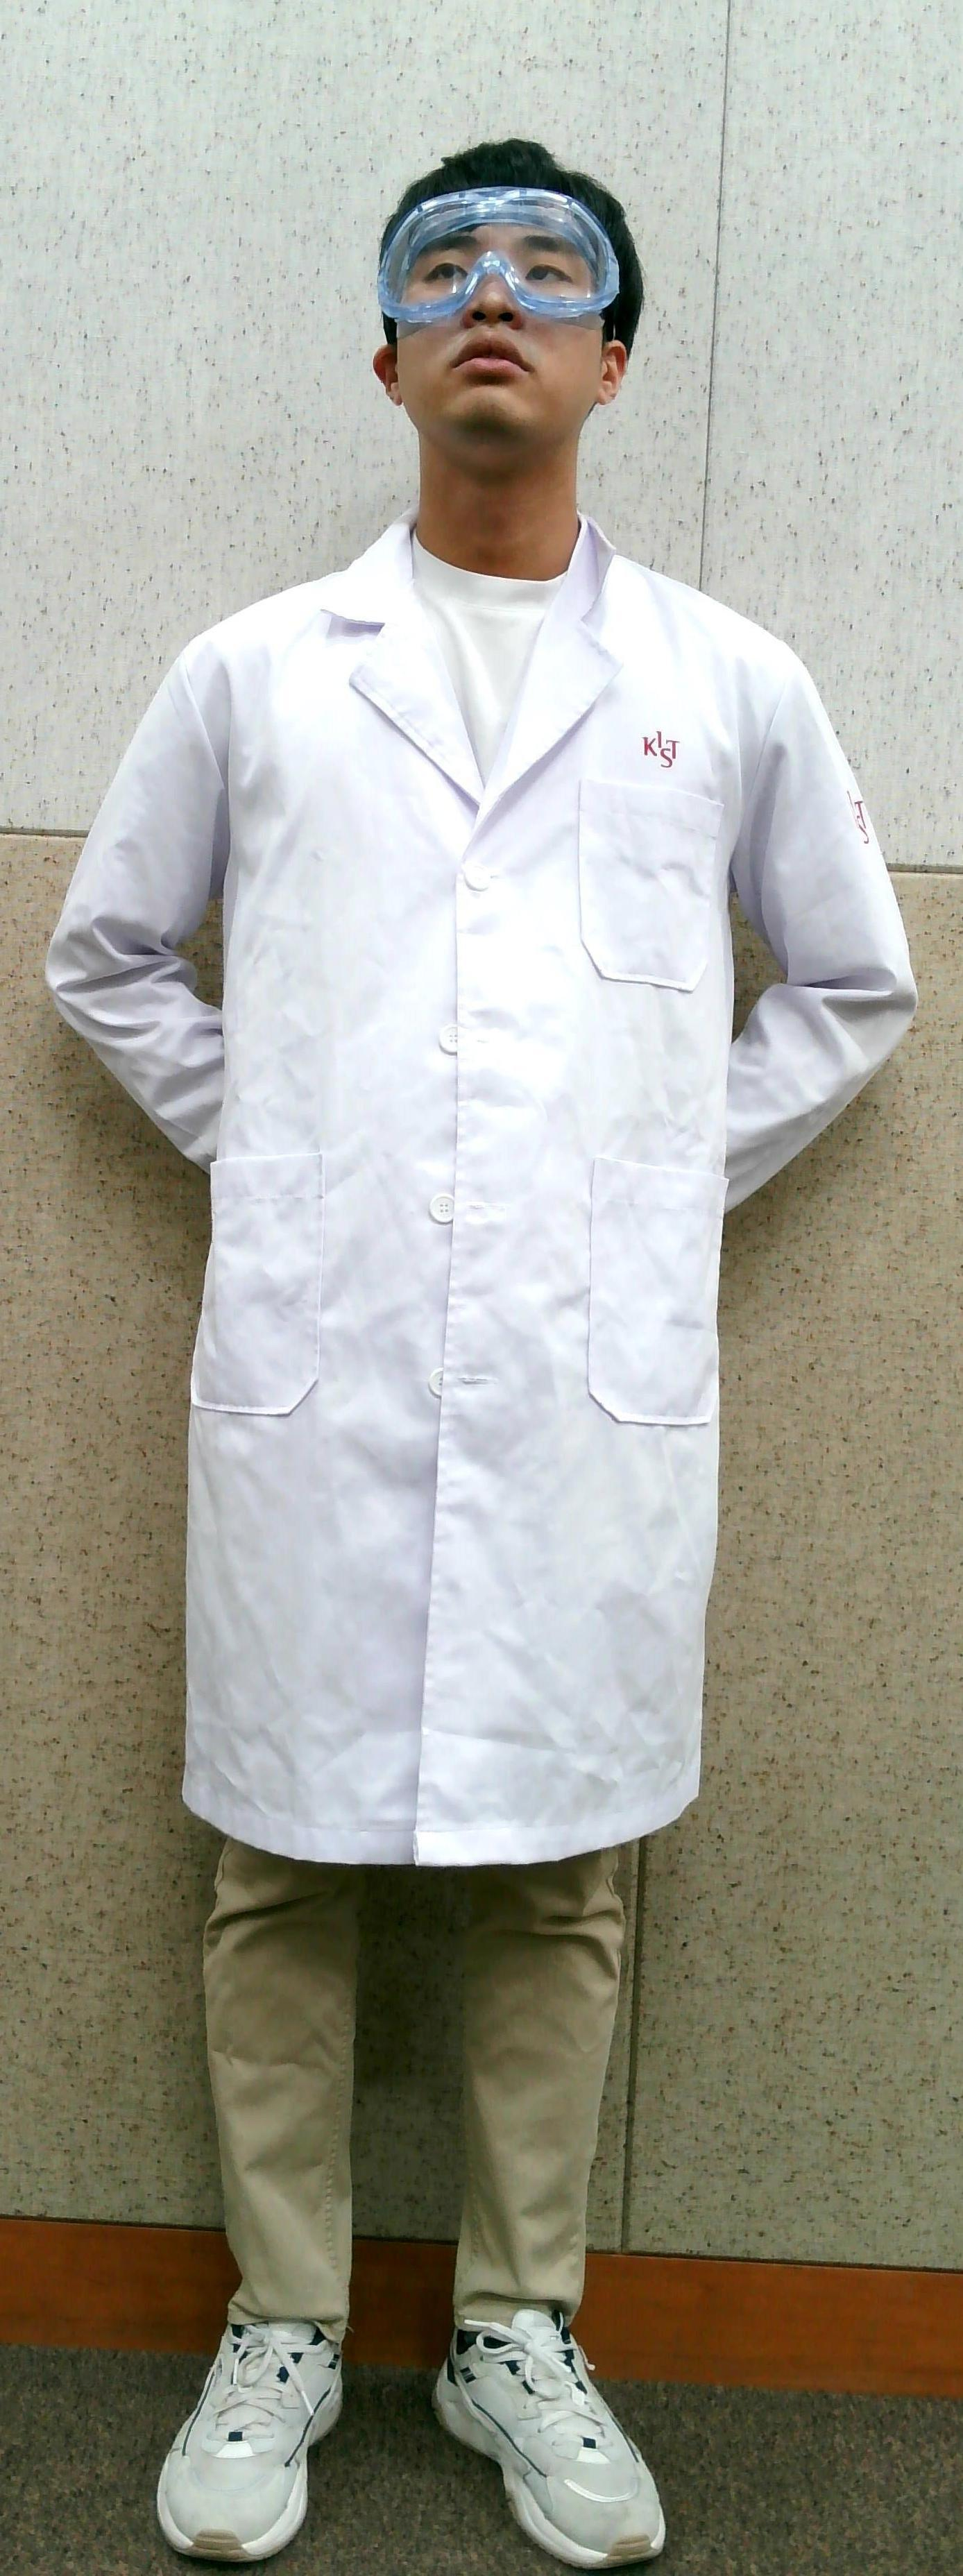lab_coat: (182, 598, 754, 1784)
